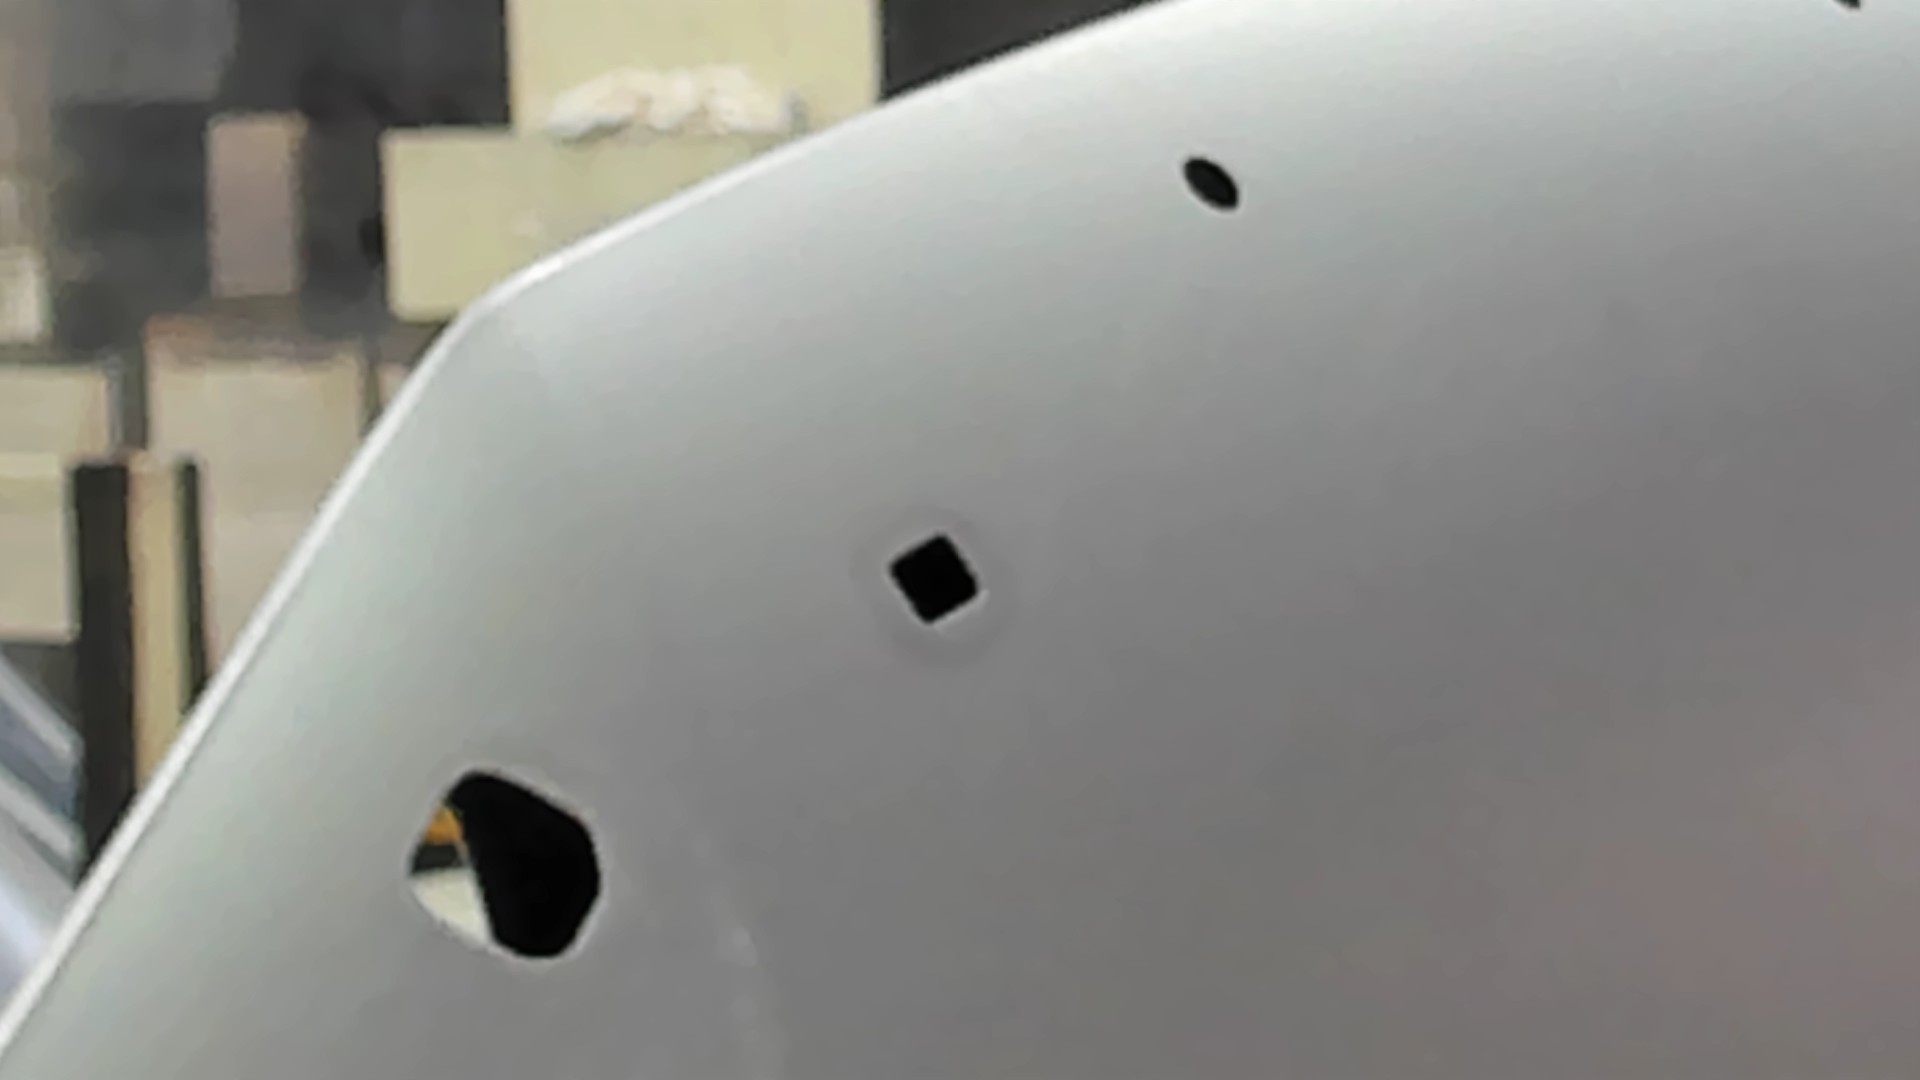chico: (1178, 153, 1246, 215), (1826, 1, 1871, 20)
grande: (398, 767, 611, 967)
mediano: (882, 527, 988, 633)
